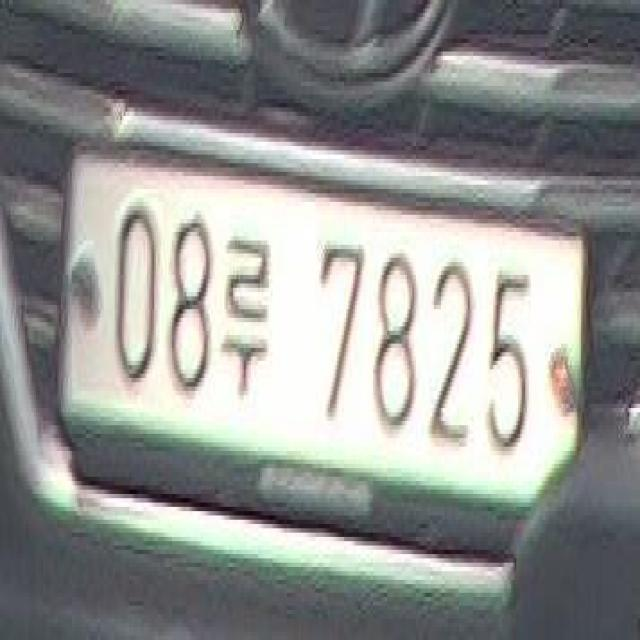illegal_plate: (61, 137, 594, 576)
